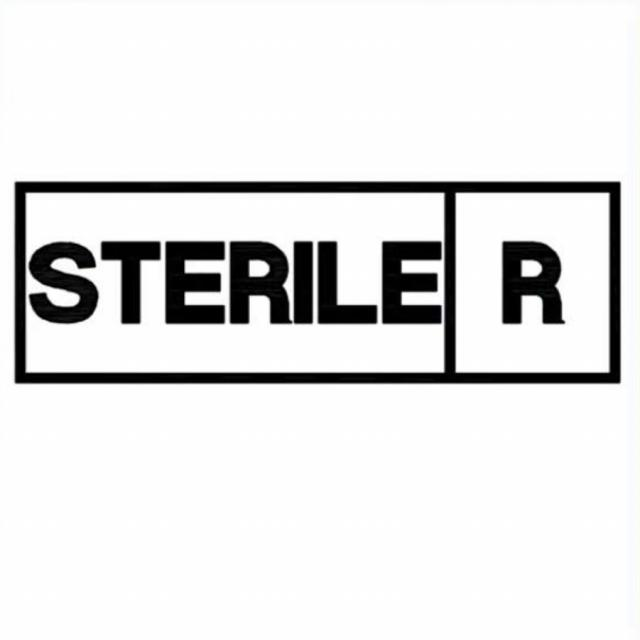Sterilized using irradiation: (17, 181, 623, 387)
